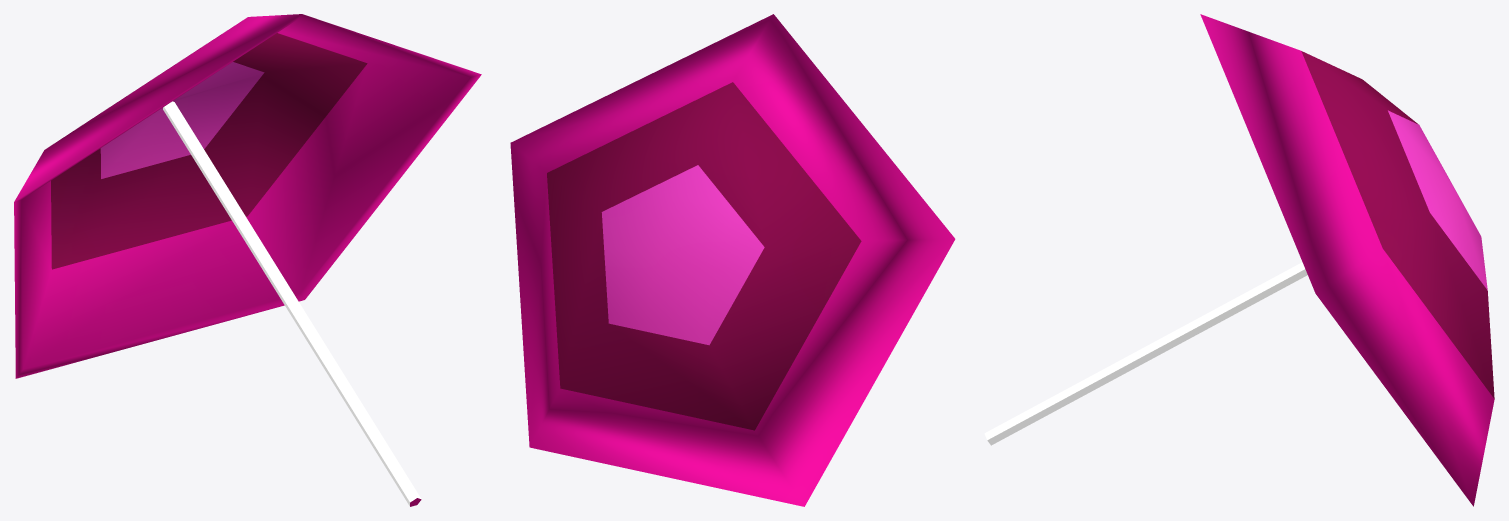
Rendered from BeachUmbrellaOnGroundPink.glb.
3 renders of one model, left to right at view 1: azimuth 30°, elevation 25°; view 2: azimuth 150°, elevation 25°; view 3: azimuth 270°, elevation 25°, orthographic. The views are drawn at different scales.
Visible parts, largest first — view 1: BeachUmbrellaOnGroundPink; view 2: BeachUmbrellaOnGroundPink; view 3: BeachUmbrellaOnGroundPink.
Part boxes in pixels (bbox=[...]): BeachUmbrellaOnGroundPink: bbox=[14, 14, 481, 506]; BeachUmbrellaOnGroundPink: bbox=[510, 14, 955, 506]; BeachUmbrellaOnGroundPink: bbox=[984, 14, 1494, 506].
Size of the model in its own units: 2.42 by 2.01 by 2.18.
1 material, 1 textured.
